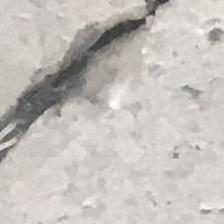Crack: (0, 2, 192, 152)
